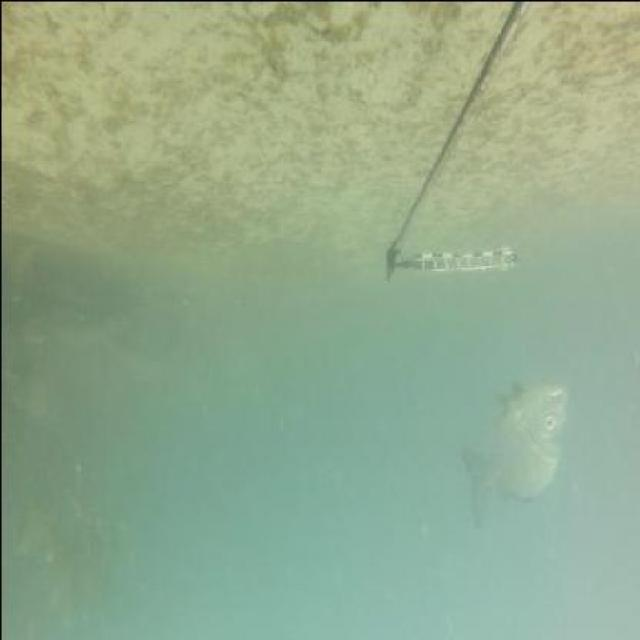acanthopagrus_palmaris: (456, 374, 570, 531)
